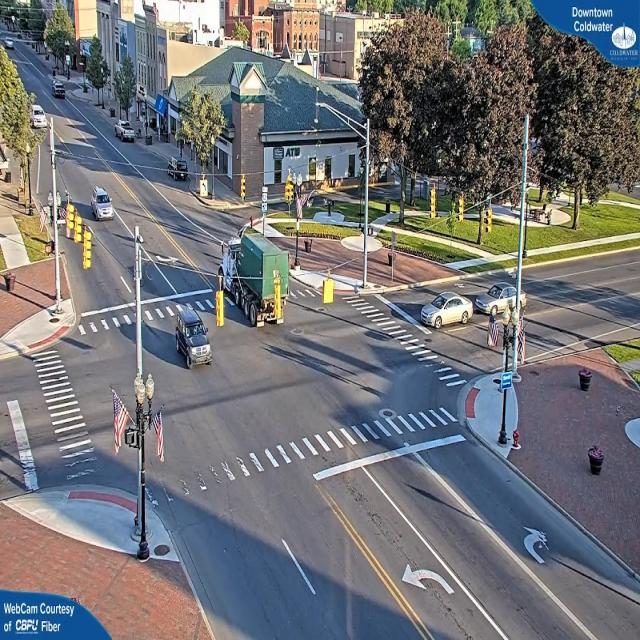car: (174, 308, 213, 372), (474, 276, 526, 316), (419, 296, 471, 330), (91, 188, 114, 221), (164, 157, 190, 180), (116, 123, 136, 143), (30, 106, 42, 131)
truck: (230, 229, 292, 330)
